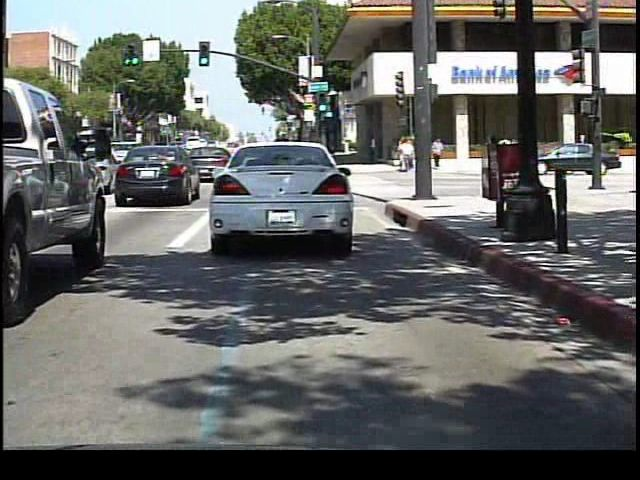person: (493, 134, 515, 174), (399, 136, 415, 177), (431, 135, 447, 171)
